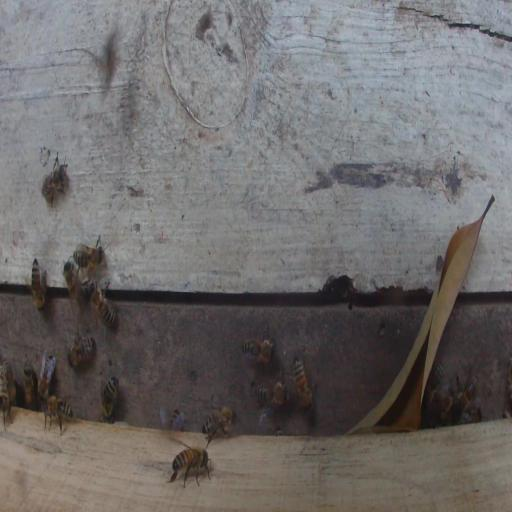nonpollenbee: (170, 447, 211, 488), (41, 151, 68, 210), (88, 283, 117, 332), (202, 405, 238, 443), (292, 356, 315, 414), (43, 393, 74, 435), (72, 238, 104, 273), (254, 376, 289, 408), (242, 334, 277, 364), (67, 335, 97, 368), (29, 256, 46, 312), (423, 361, 443, 405), (38, 352, 55, 402), (455, 375, 478, 410), (101, 375, 118, 421), (159, 406, 185, 431), (436, 387, 453, 425), (23, 363, 35, 407), (63, 261, 77, 297), (458, 406, 482, 424), (159, 404, 173, 430)
